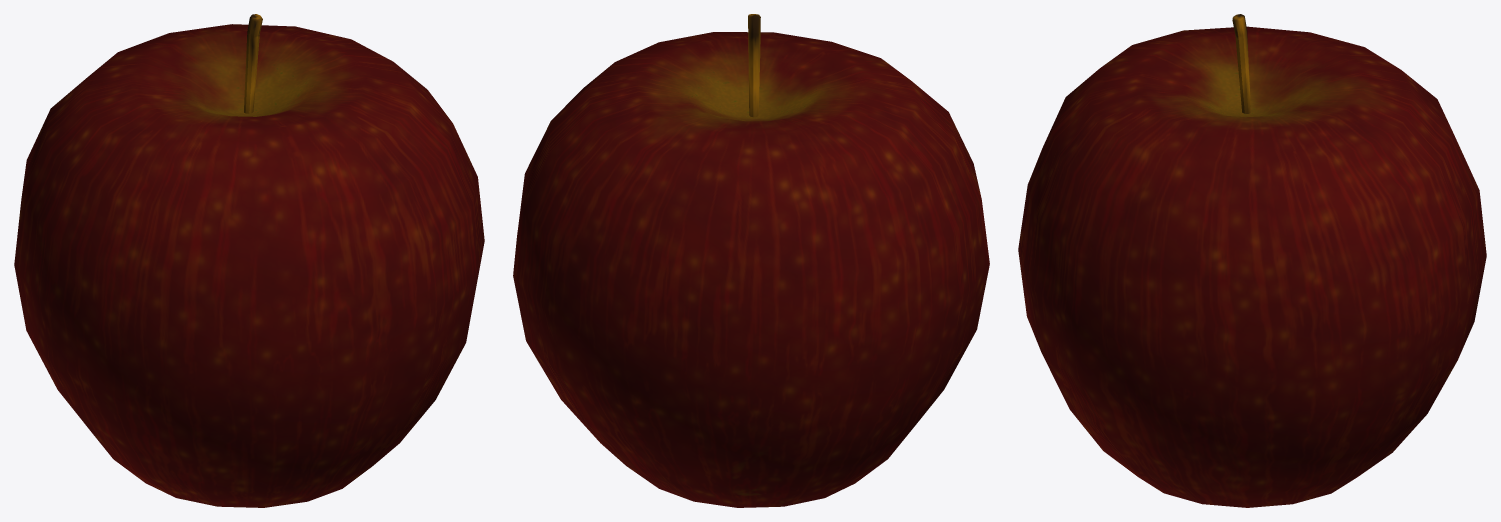
File: apple.glb
3 renders of one model, left to right at view 1: azimuth 30°, elevation 25°; view 2: azimuth 150°, elevation 25°; view 3: azimuth 270°, elevation 25°, orthographic.
Visible parts, largest first — view 1: Apple Cut Low.001; view 2: Apple Cut Low.001; view 3: Apple Cut Low.001.
Part boxes in pixels (box(x1,y1,x2,y2)): Apple Cut Low.001: box(14, 14, 484, 507); Apple Cut Low.001: box(513, 14, 989, 507); Apple Cut Low.001: box(1018, 14, 1486, 507).
Size of the model in its own units: 4.17 by 4.46 by 4.13.
1 material, 1 textured.
